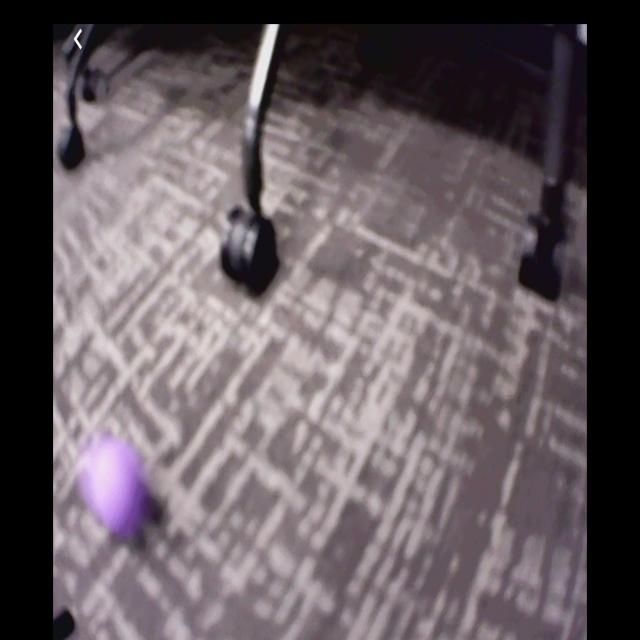ball: (89, 443, 146, 530)
